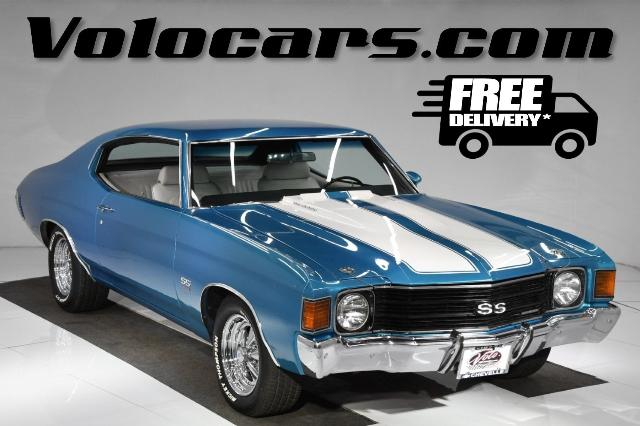chevelle-1972: (16, 120, 620, 417)
